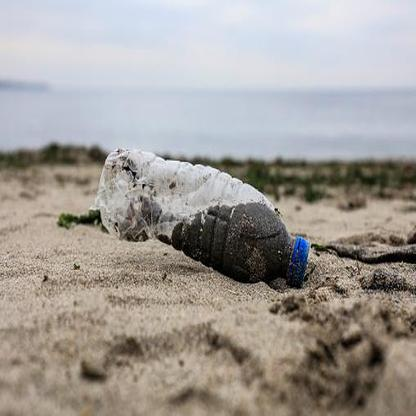plastic bottle: (98, 148, 308, 285)
